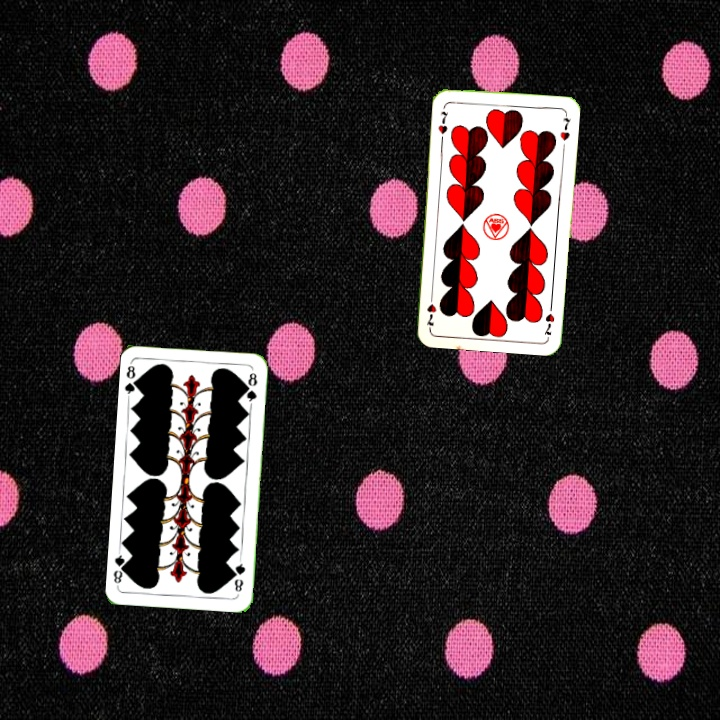G8: (121, 360, 142, 400), (230, 556, 247, 594)
H7: (540, 299, 557, 340), (434, 107, 450, 136)
